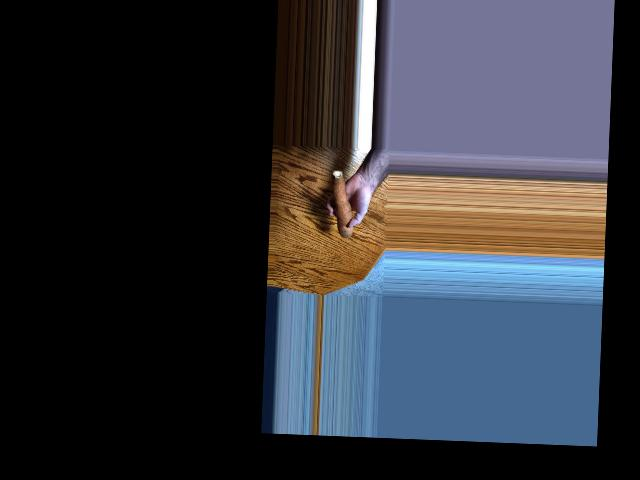sweet_potato: (328, 164, 352, 241)
